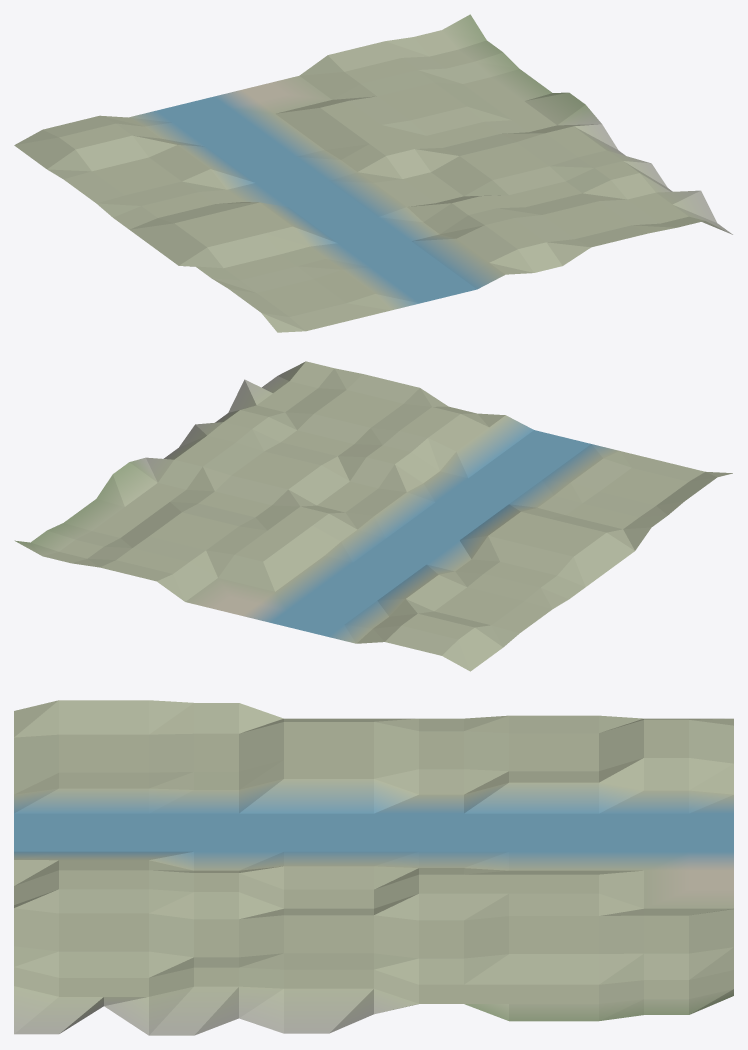
3 renders of one model, top to bottom at view 1: azimuth 30°, elevation 25°; view 2: azimuth 150°, elevation 25°; view 3: azimuth 270°, elevation 25°, orthographic. The views are drawn at different scales.
Bounding box in the file's own units: 32 × 1.95 × 32.
